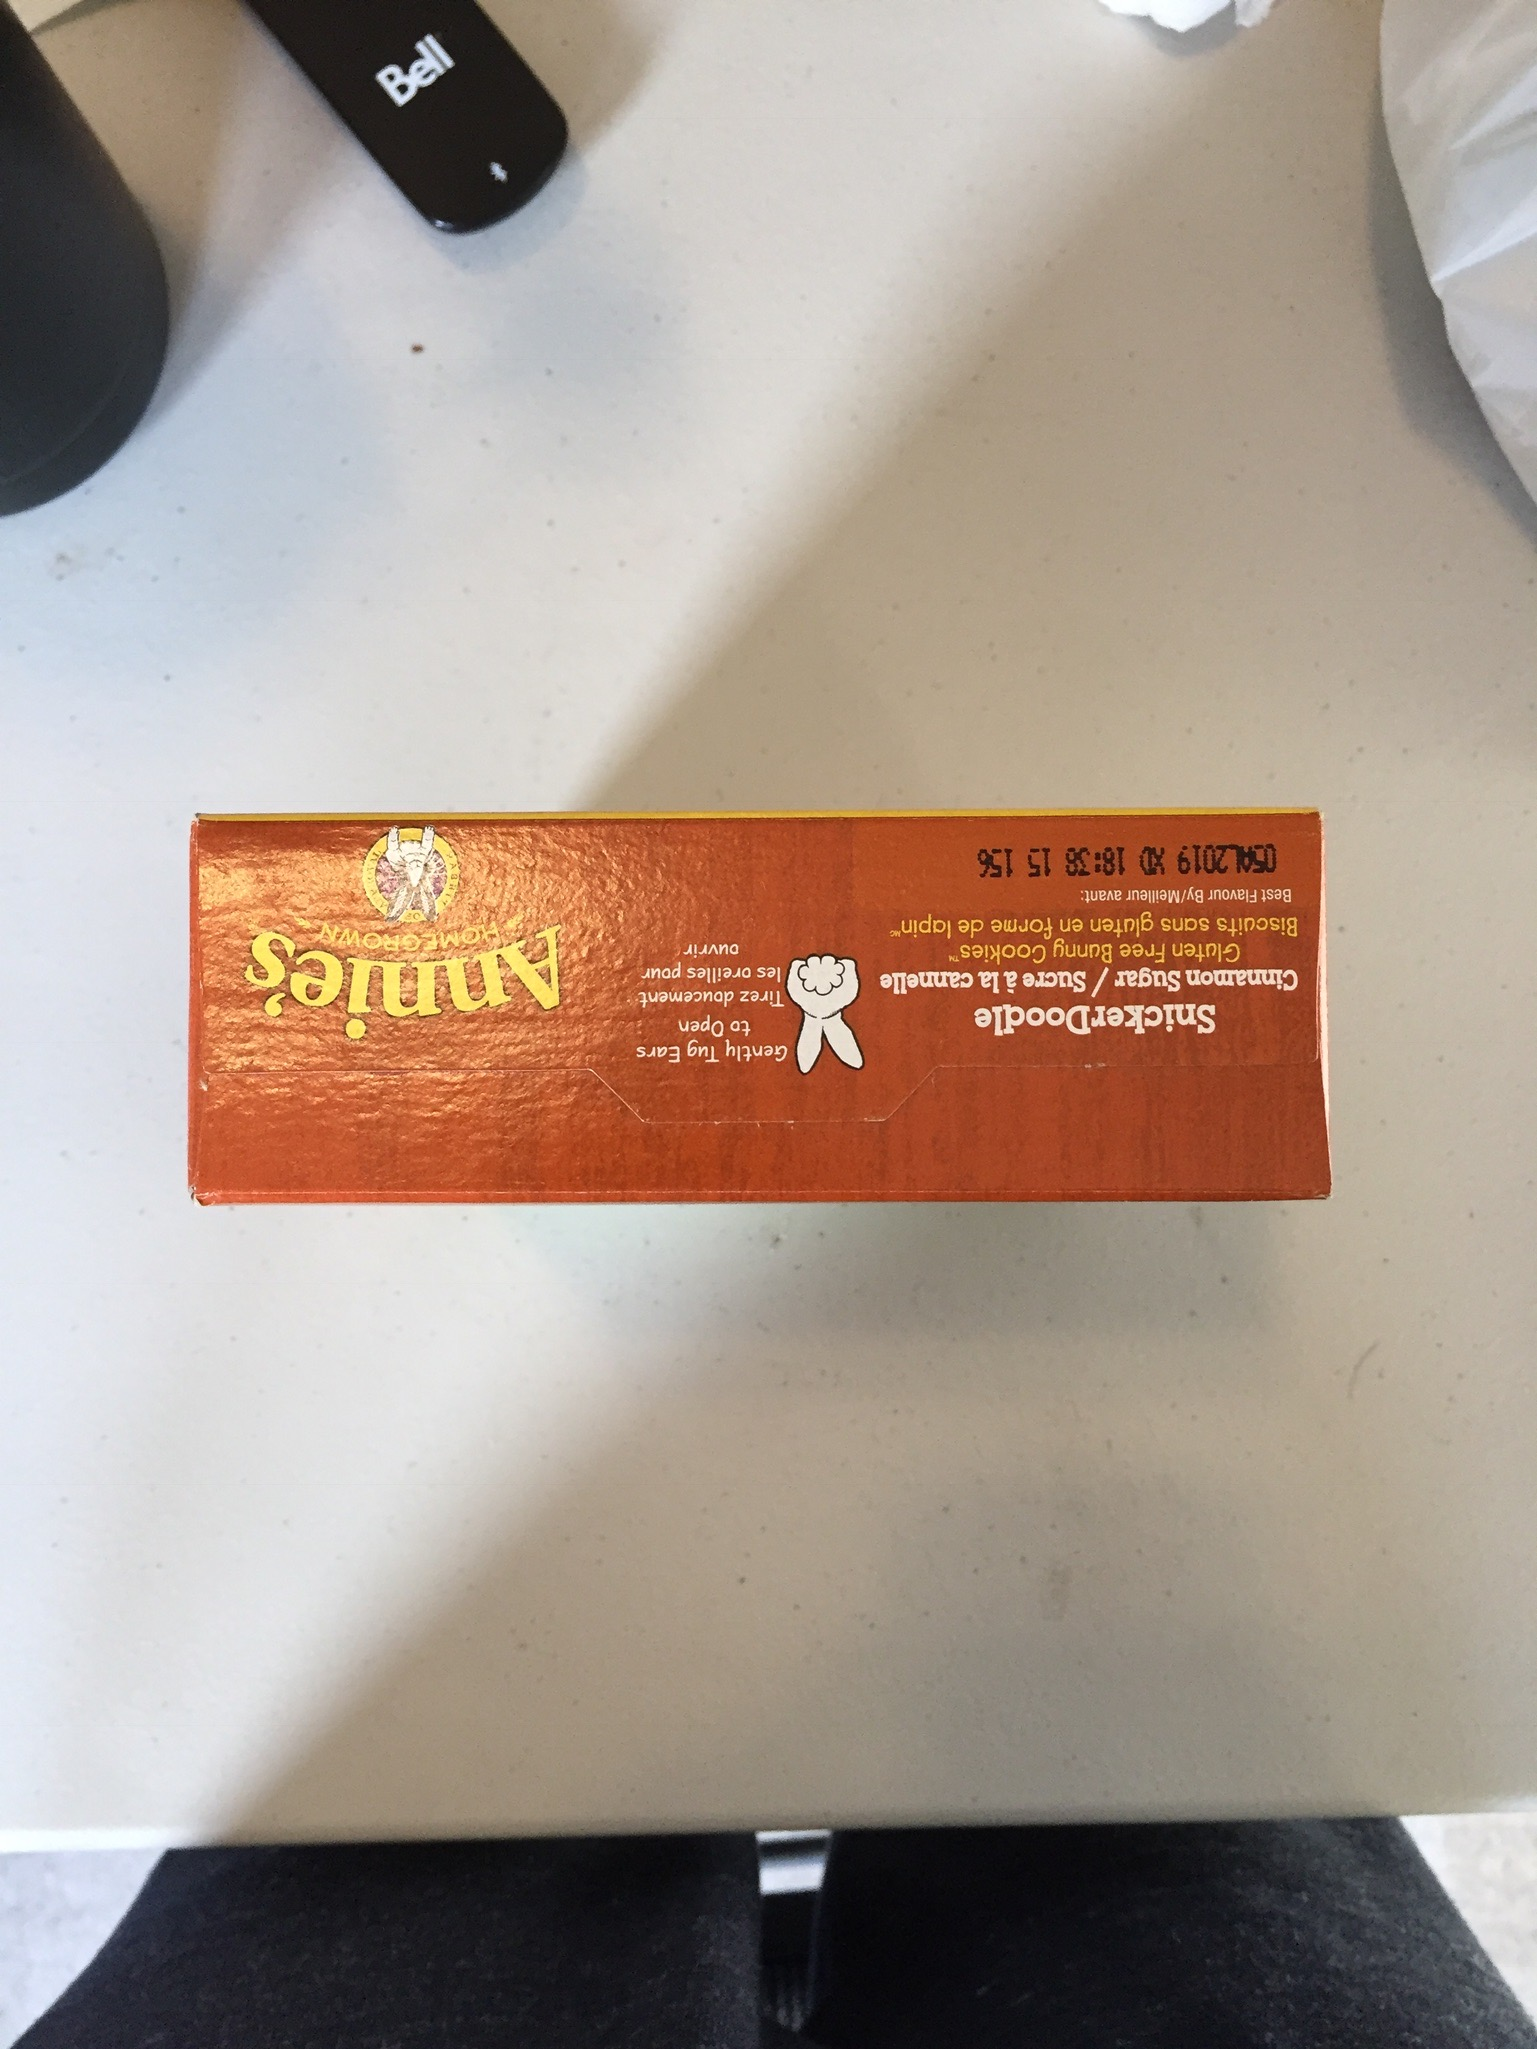annies_snickerdoodle_cinnamon_sugar: (199, 823, 1321, 1209)
